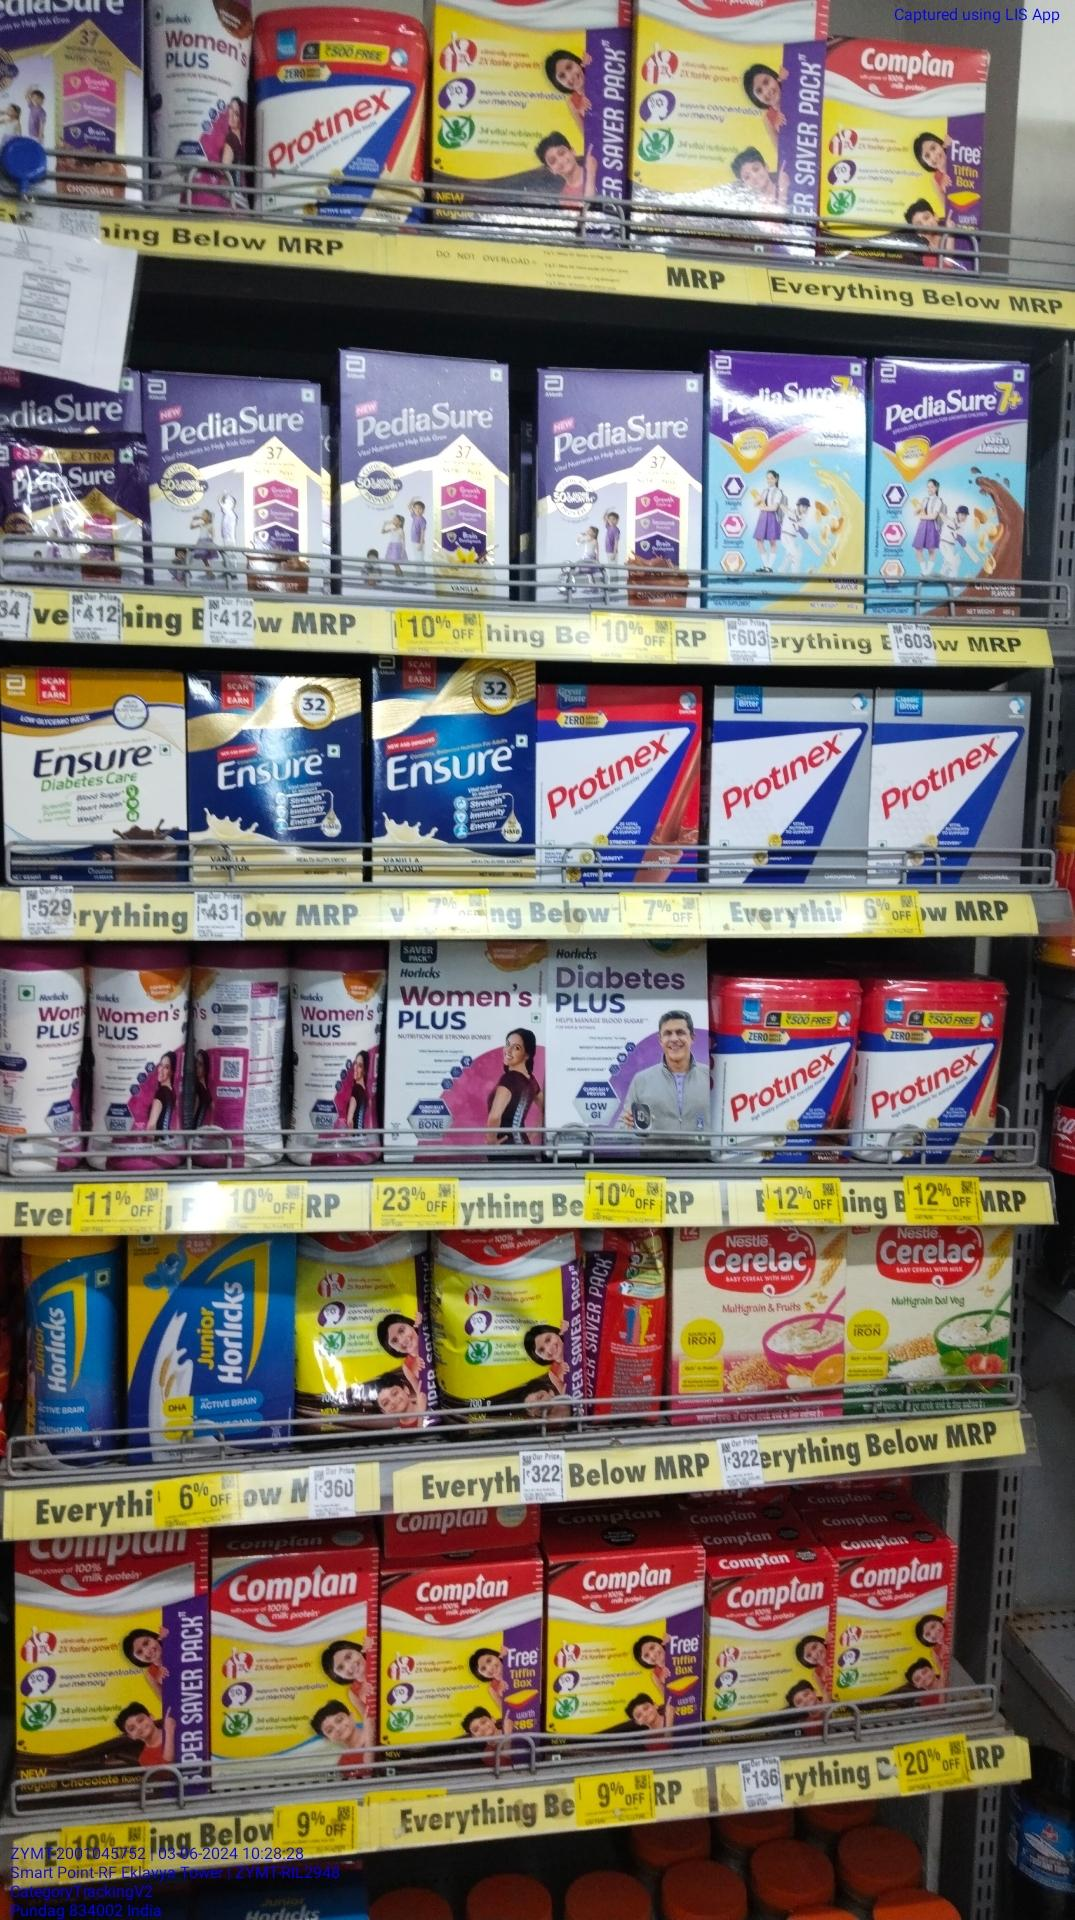ENSURE_VANILLA_400_G_PACK: (191, 669, 363, 885), (369, 659, 536, 882)
HORLICKS_JUNIOR_VANILLA_500_GM_JAR: (26, 1233, 124, 1481)
PEDIASURE_CHOCOLATE_500_G_PACK: (145, 372, 321, 595), (534, 369, 696, 609)
PEDIASURE_VANILLA_500_G_PACK: (344, 348, 510, 600)
PROTINEX_CHOCOLATE_400_G_JAR: (718, 976, 855, 1162)
PROTINEX_VANILLA_400_G_JAR: (244, 9, 425, 225), (864, 984, 1000, 1159)
